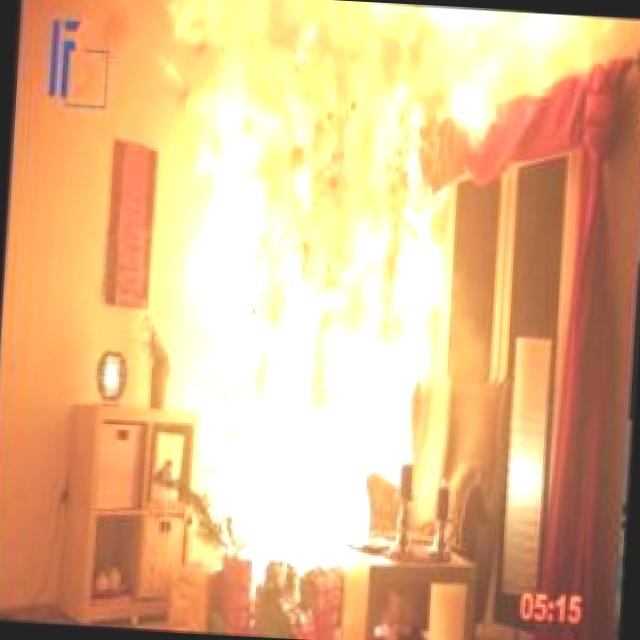fire: (110, 0, 523, 591)
